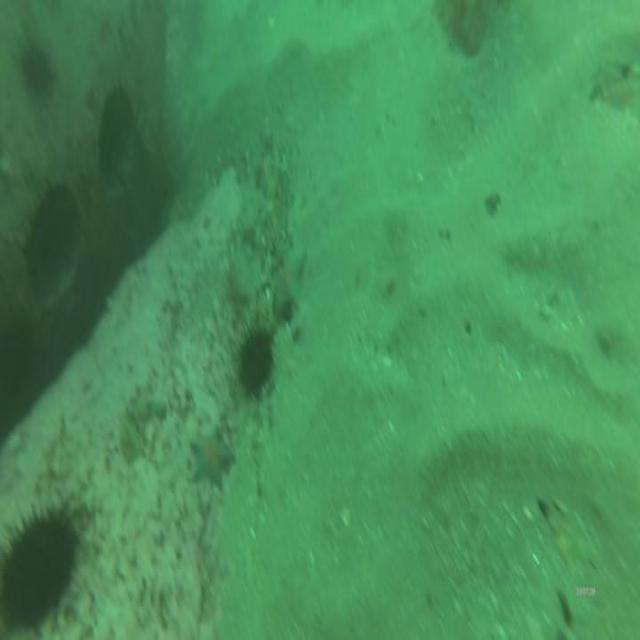echinus: (1, 505, 80, 640), (235, 314, 279, 403), (21, 39, 58, 106)
starfish: (188, 419, 236, 493), (265, 240, 308, 319)
